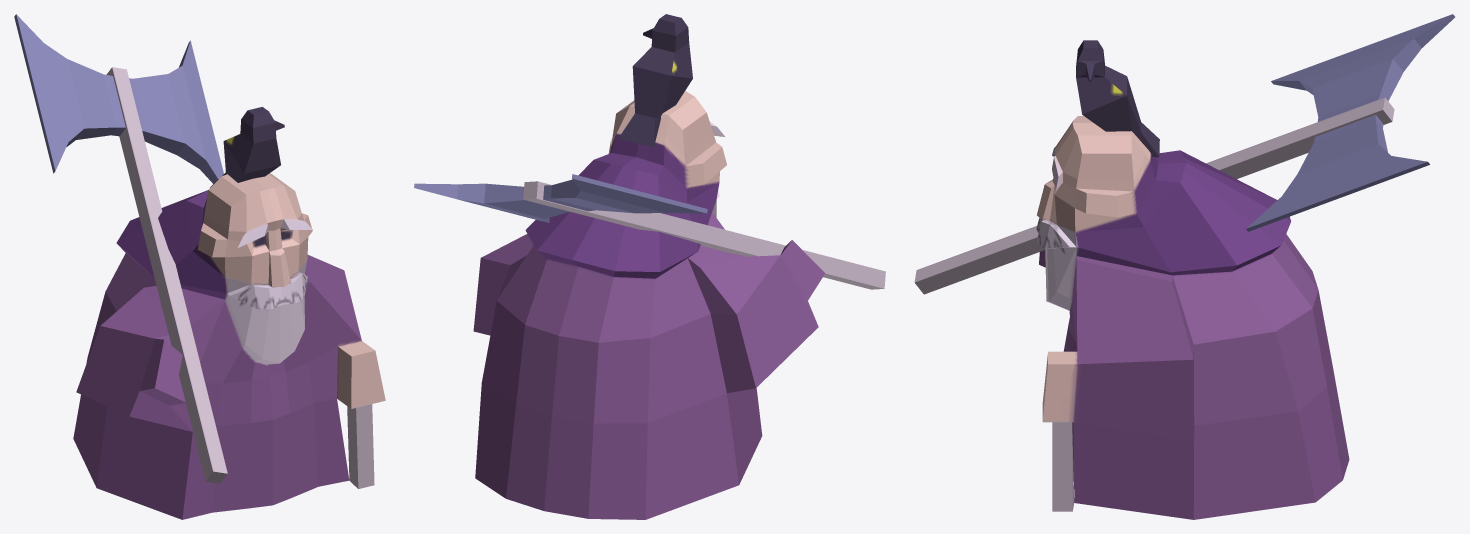
Rendered from Asset_Pawn_Grekhan.fbx.
The picture shows the model from 3 angles, left to right: view 1: azimuth 30°, elevation 25°; view 2: azimuth 150°, elevation 25°; view 3: azimuth 270°, elevation 25°; orthographic projection. The views are drawn at different scales.
Parts seen in each view (by area): view 1: STP_polySurface_Pauwn, STP_pCube4, STP_pCube3, STP_polySurface_Raven; view 2: STP_polySurface_Pauwn, STP_pCube4, STP_pCube3, STP_polySurface_Raven; view 3: STP_polySurface_Pauwn, STP_pCube4, STP_pCube3, STP_polySurface_Raven.
Part boxes in pixels (bbox=[...]): STP_polySurface_Pauwn: bbox=[73, 173, 385, 519]; STP_pCube4: bbox=[14, 14, 223, 183]; STP_pCube3: bbox=[106, 67, 227, 483]; STP_polySurface_Raven: bbox=[210, 107, 284, 187]; STP_polySurface_Pauwn: bbox=[473, 91, 825, 519]; STP_pCube4: bbox=[414, 174, 707, 222]; STP_pCube3: bbox=[523, 181, 885, 289]; STP_polySurface_Raven: bbox=[618, 14, 692, 147]; STP_polySurface_Pauwn: bbox=[1036, 116, 1349, 519]; STP_pCube4: bbox=[1246, 14, 1455, 231]; STP_pCube3: bbox=[914, 97, 1394, 294]; STP_polySurface_Raven: bbox=[1076, 40, 1159, 157].
Size of the model in its own units: 34.01 by 45.36 by 53.52.
